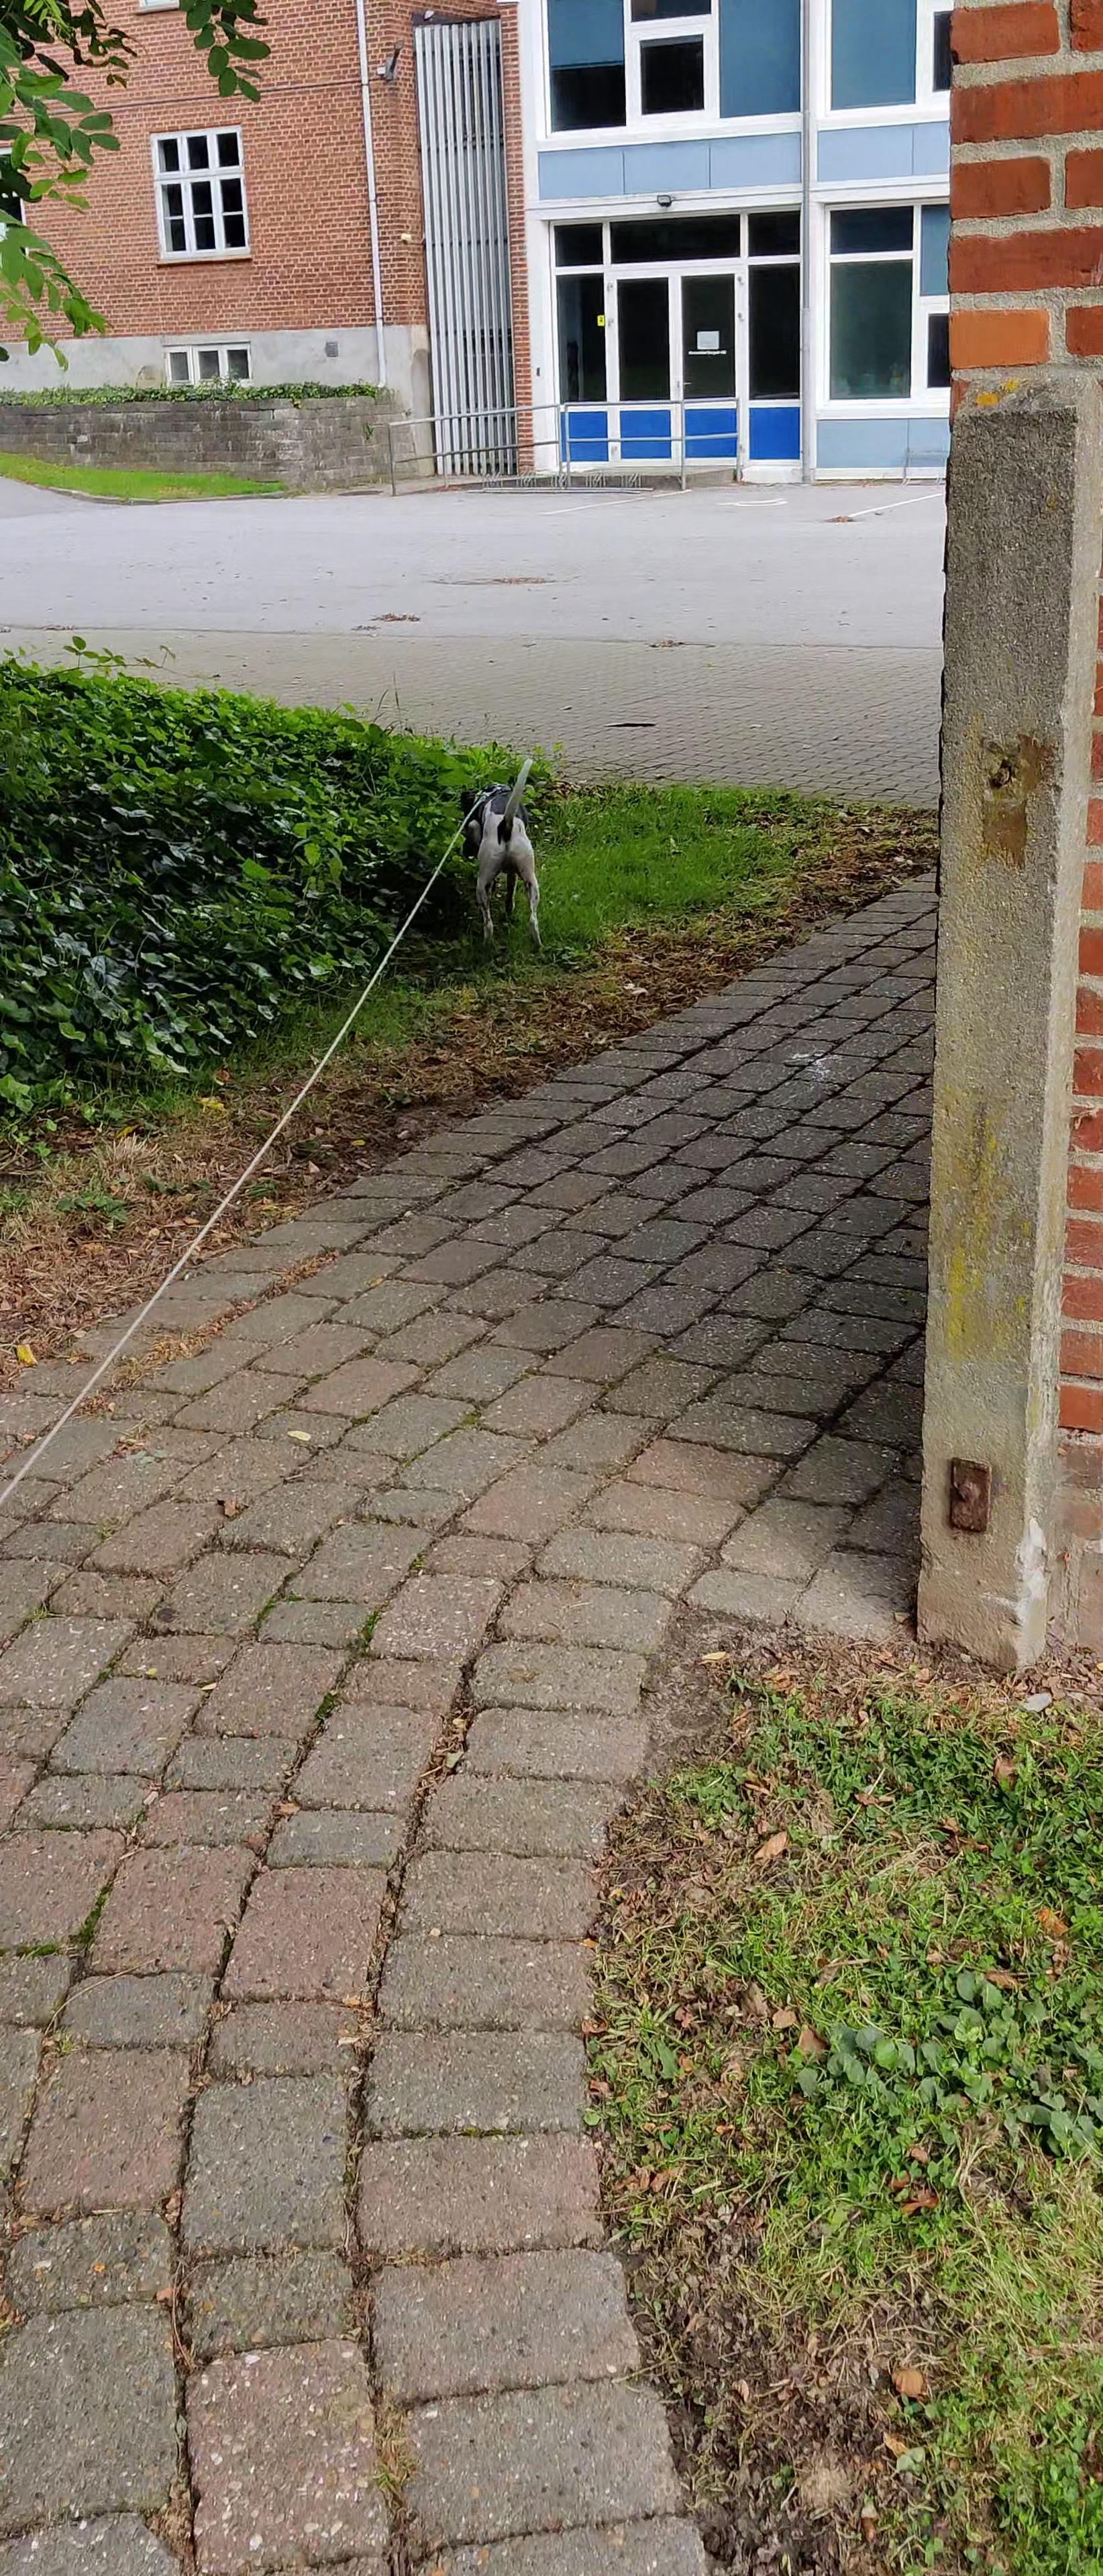Dog: (444, 739, 557, 963)
